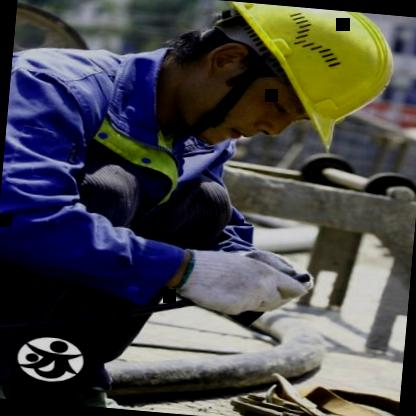helmet: (162, 0, 416, 157), (0, 325, 118, 398)
